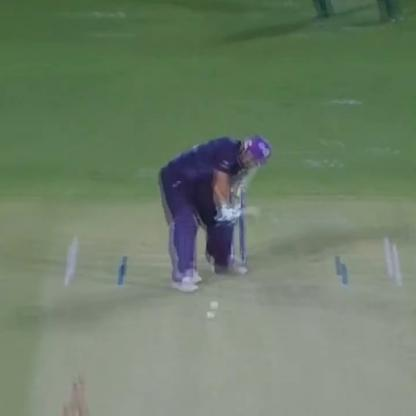ball: (206, 313, 216, 323), (211, 301, 222, 309)
pitch: (19, 241, 414, 407)
